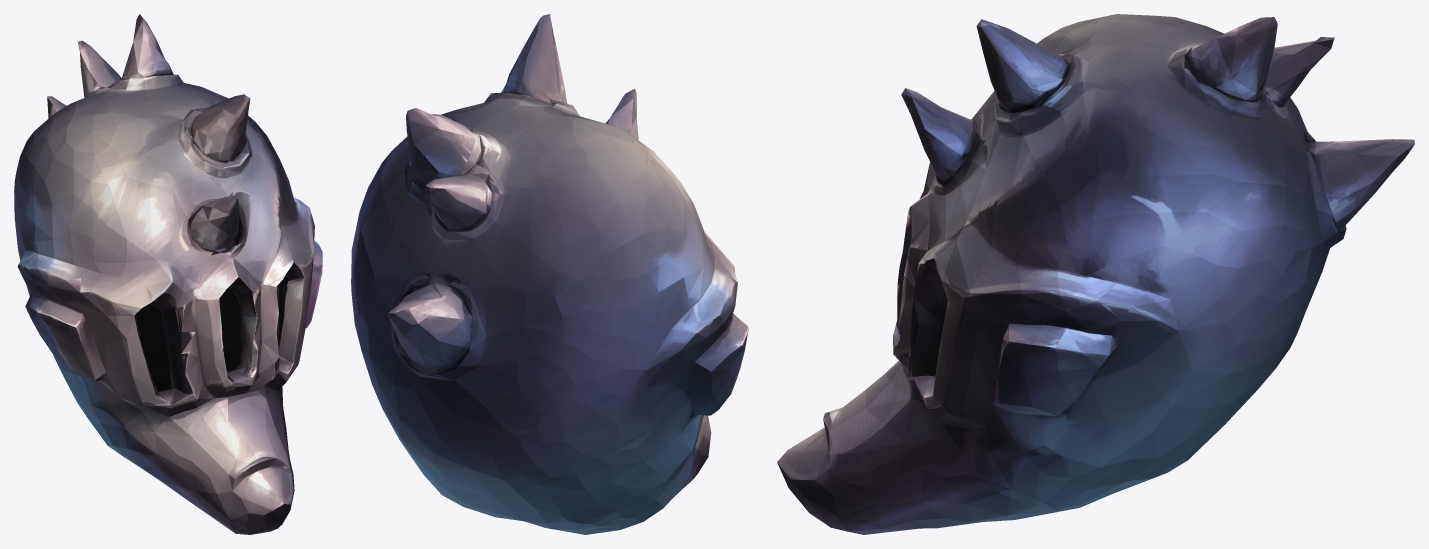
The model's file is helmet.glb.
The picture shows the model from 3 angles, left to right: view 1: azimuth 30°, elevation 25°; view 2: azimuth 150°, elevation 25°; view 3: azimuth 270°, elevation 25°; orthographic projection. The views are drawn at different scales.
Visible parts, largest first — view 1: geometry_0; view 2: geometry_0; view 3: geometry_0.
Part boxes in pixels (<box>): geometry_0: <box>14,14,322,534</box>; geometry_0: <box>351,14,748,534</box>; geometry_0: <box>777,14,1414,534</box>.
Bounding box in the file's own units: 0.6894 × 0.9291 × 0.9999.
Materials: 1 (1 with a texture image).
